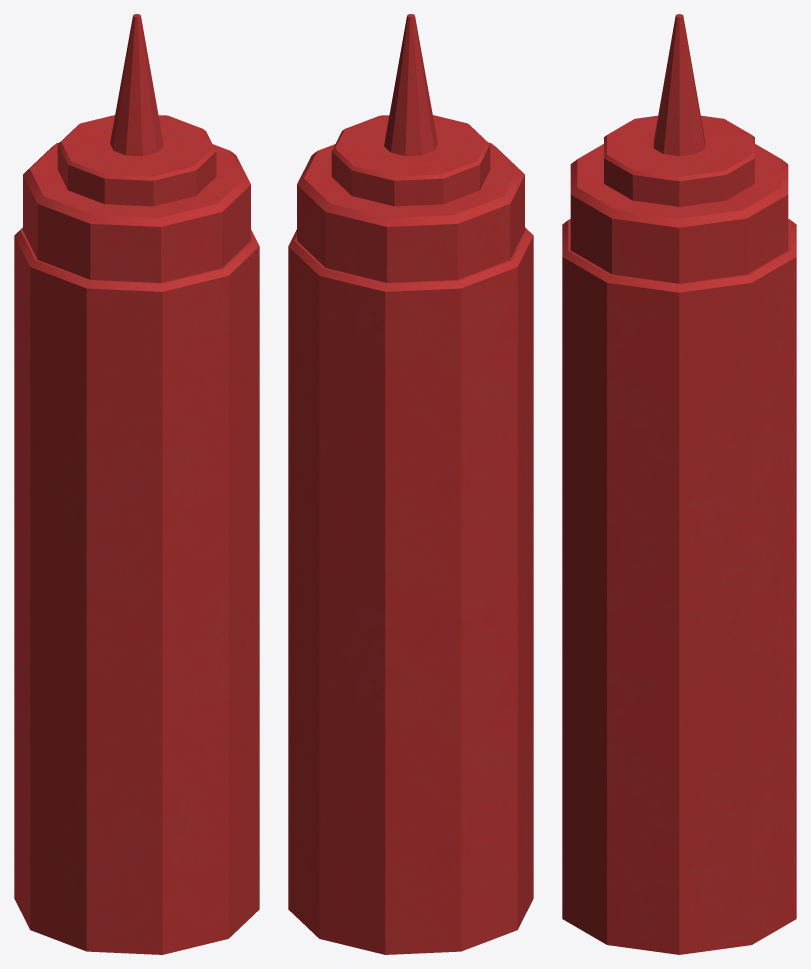
The model's file is squirt bottle.fbx.
3 views of the same model, side by side, from view 1: azimuth 30°, elevation 25°; view 2: azimuth 150°, elevation 25°; view 3: azimuth 270°, elevation 25° (orthographic).
Parts seen in each view (by area): view 1: squirt_bottle1; view 2: squirt_bottle1; view 3: squirt_bottle1.
Part boxes in pixels (x1,y1,x2,y2): squirt_bottle1: [14, 14, 259, 954]; squirt_bottle1: [288, 14, 533, 954]; squirt_bottle1: [562, 14, 796, 954].
Bounding box in the file's own units: 0.08 × 0.318 × 0.0761.
